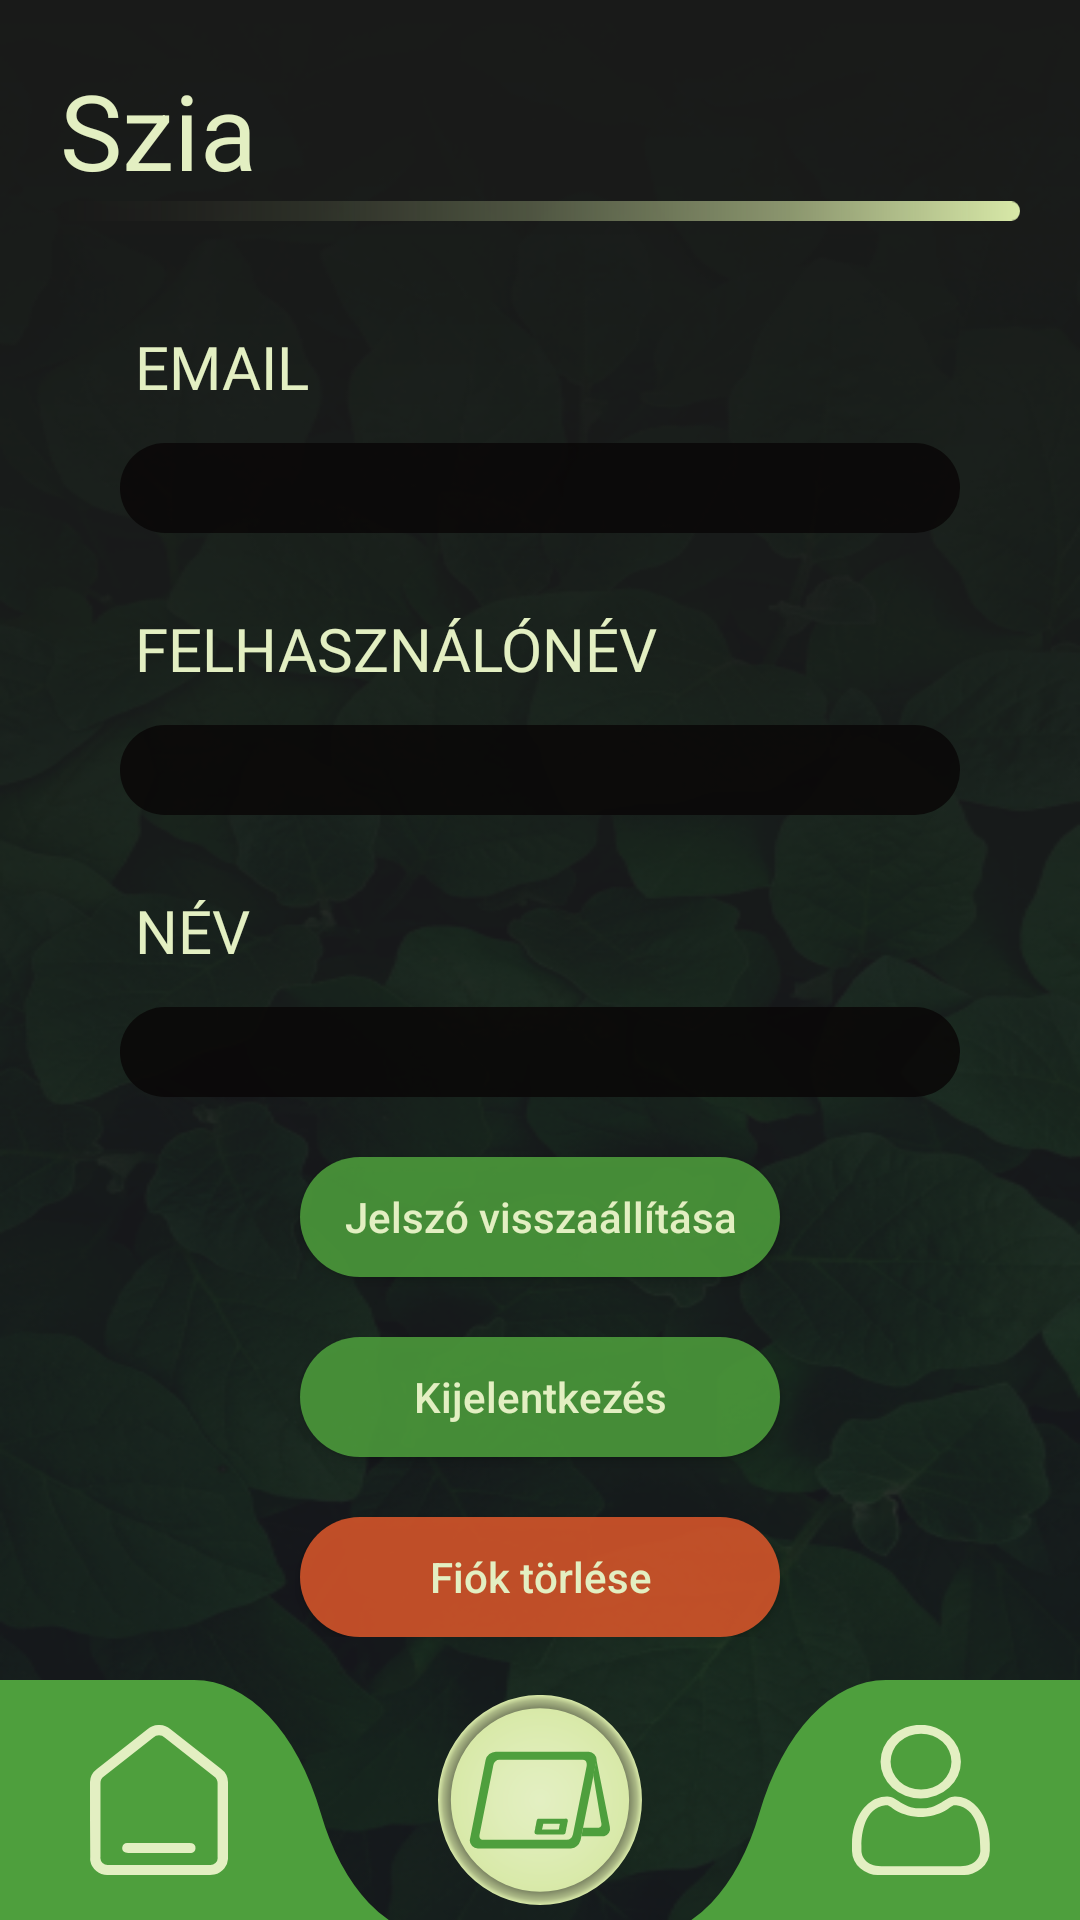

Point at icon controls on the screen. Image size 1080 x 1920, points as [x,y].
home: [159,1800]
